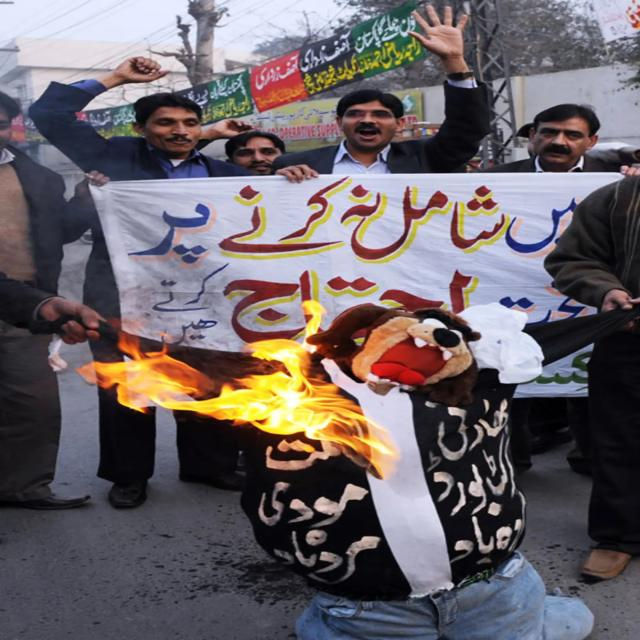fire: (195, 300, 393, 477), (77, 333, 196, 412)
